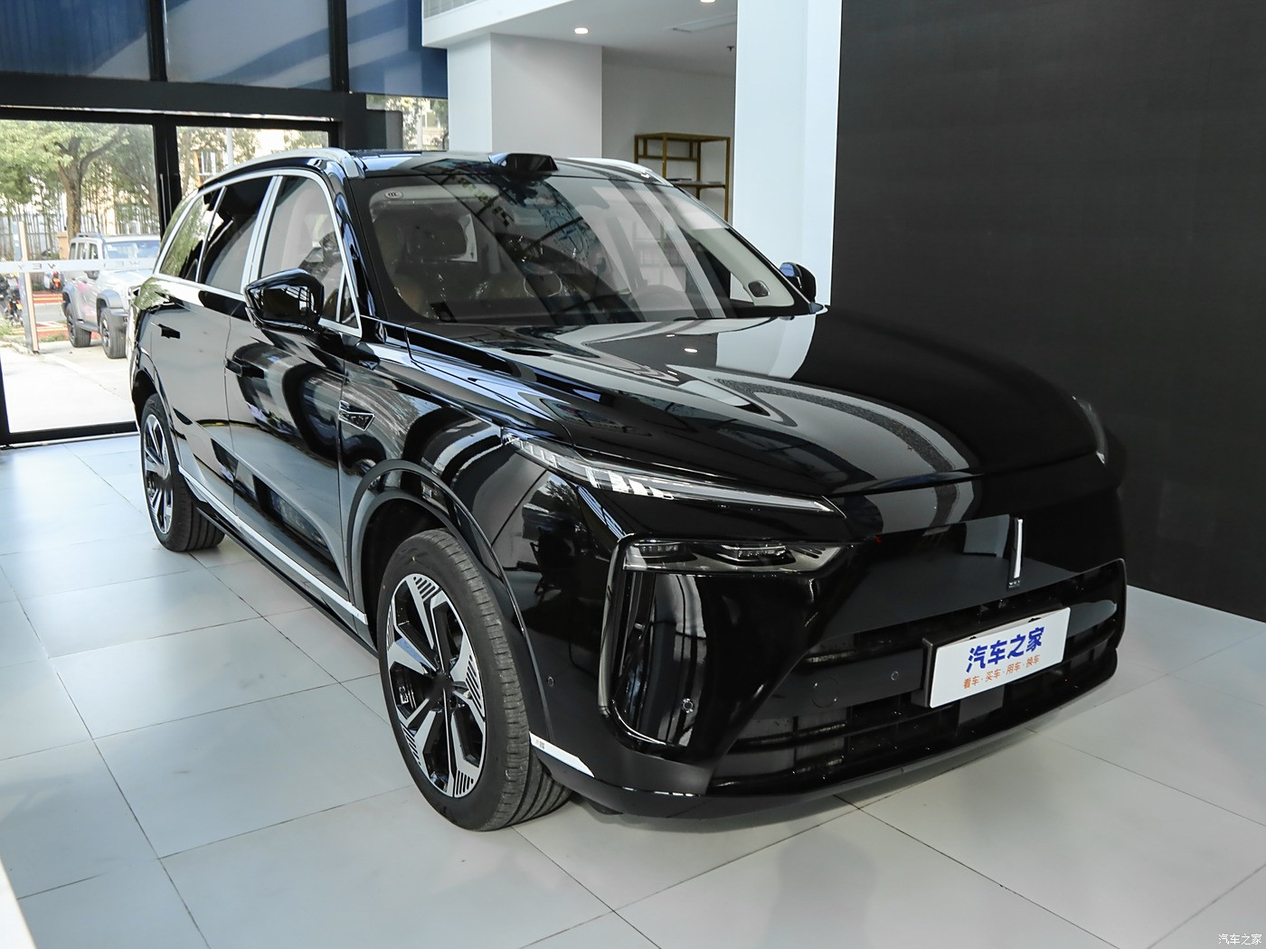WEY: (1008, 519, 1024, 588)
